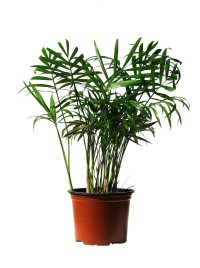pottedplant: (19, 37, 193, 246)
